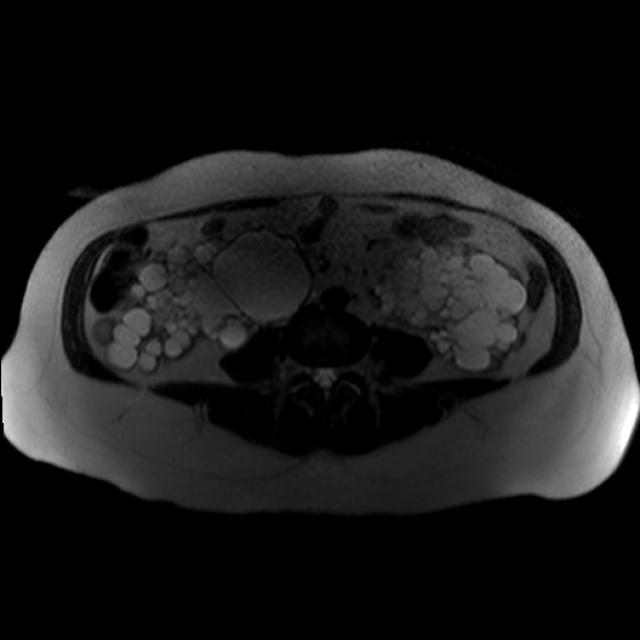sag: (90, 227, 317, 379)
sol: (368, 240, 528, 376)
